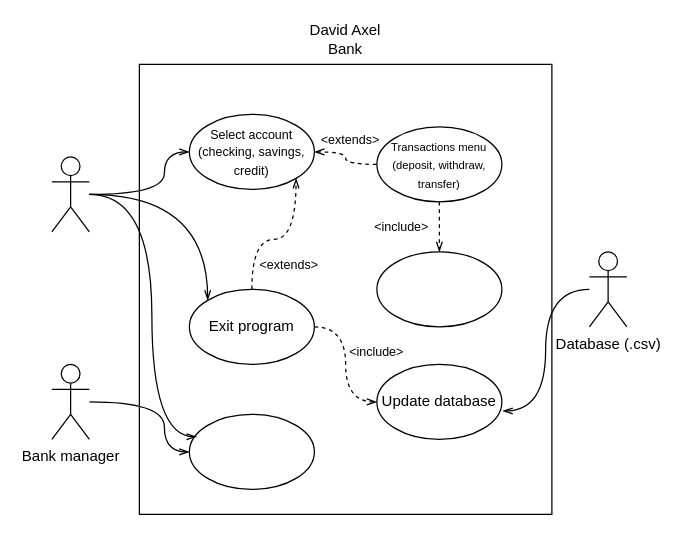
Some shapes in this 681 by 536 pixel diagram are drawn without their labels. The shapes that lost their labels are listed below. From the top down, each one's centre as x and y in pixels, then its label:
pixel 70 194: Bank user
pixel 439 289: Input amount
pixel 251 451: Write bank statement
